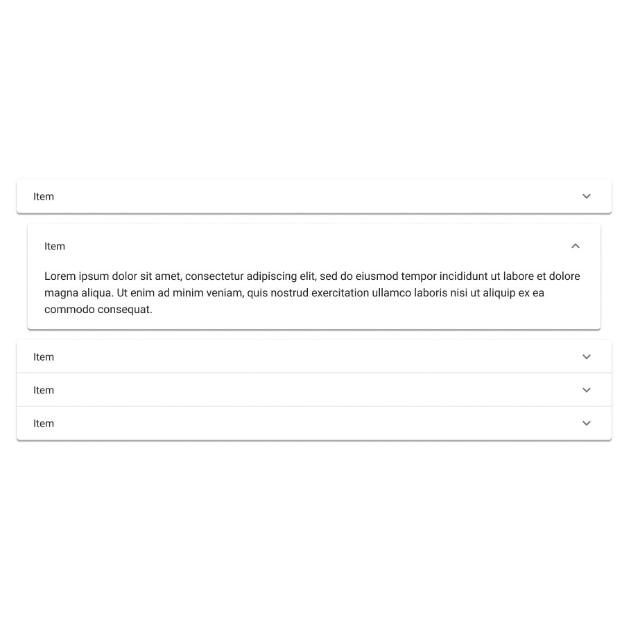QLabel: (43, 270, 581, 314), (32, 192, 54, 202), (33, 352, 55, 362), (32, 419, 54, 428), (44, 242, 66, 250), (34, 387, 54, 395)
VExpansionPanel: (24, 222, 600, 330), (15, 178, 613, 216), (17, 374, 611, 406), (17, 342, 611, 373), (18, 408, 610, 439)
